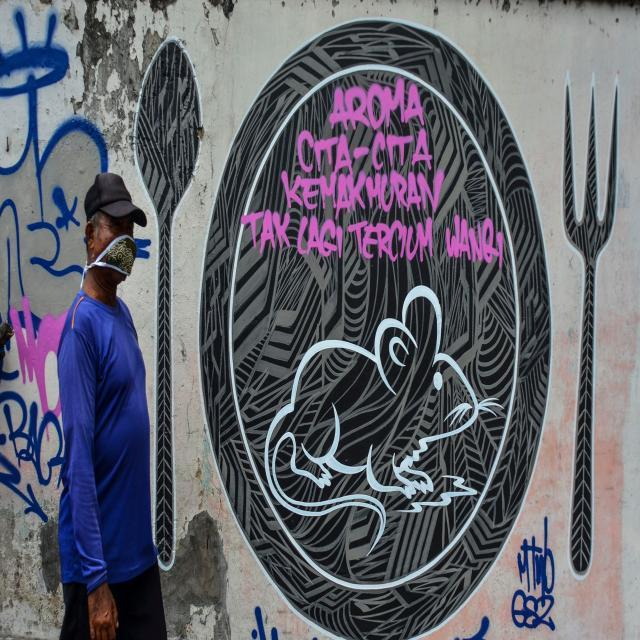-: (133, 30, 620, 640), (0, 8, 150, 522)
